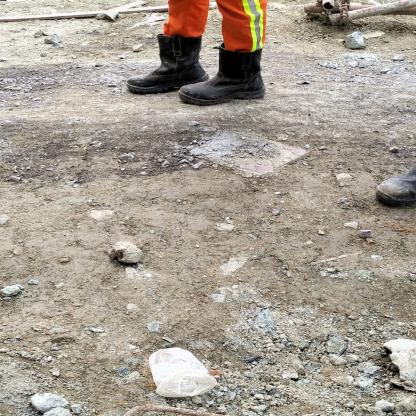bota: (122, 33, 210, 95), (179, 45, 272, 102)
